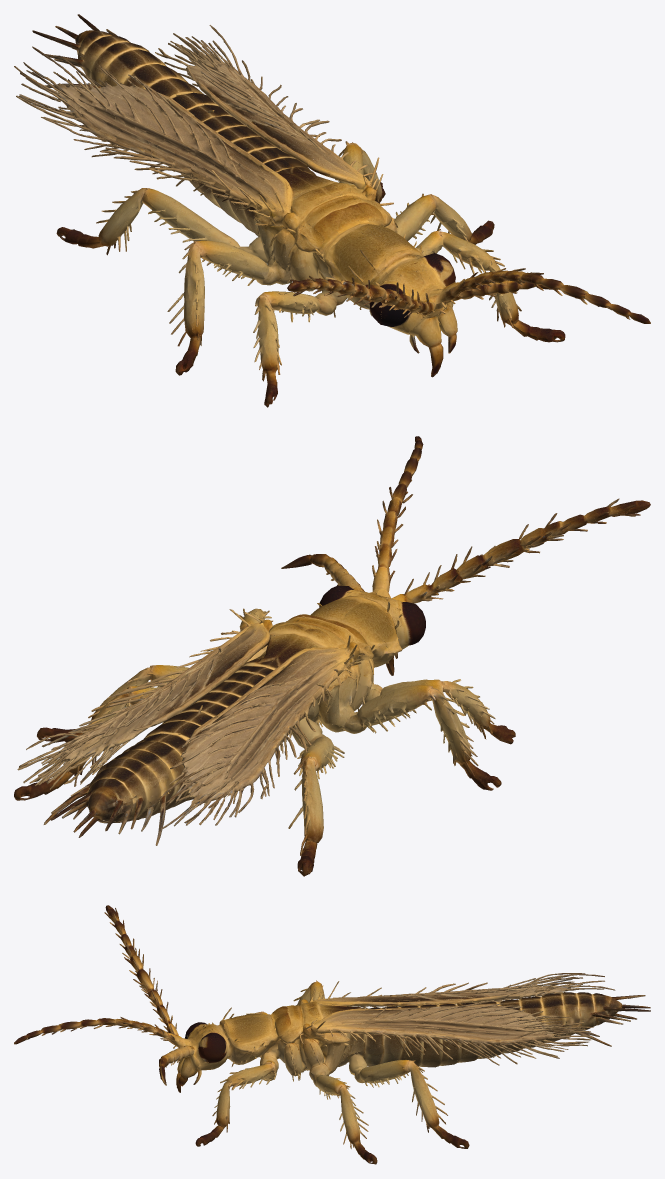
File: thrips-blender.glb
3 renders of one model, top to bottom at view 1: azimuth 30°, elevation 25°; view 2: azimuth 150°, elevation 25°; view 3: azimuth 270°, elevation 25°, orthographic. The views are drawn at different scales.
Visible parts, largest first — view 1: Mesh_0; view 2: Mesh_0; view 3: Mesh_0.
Boxes of the visible parts, <box> form: Mesh_0: <box>14,14,650,407</box>; Mesh_0: <box>14,436,650,876</box>; Mesh_0: <box>14,905,650,1164</box>.
Bounding box in the file's own units: 0.9492 × 0.4363 × 1.9.
Materials: 1 (1 with a texture image).
